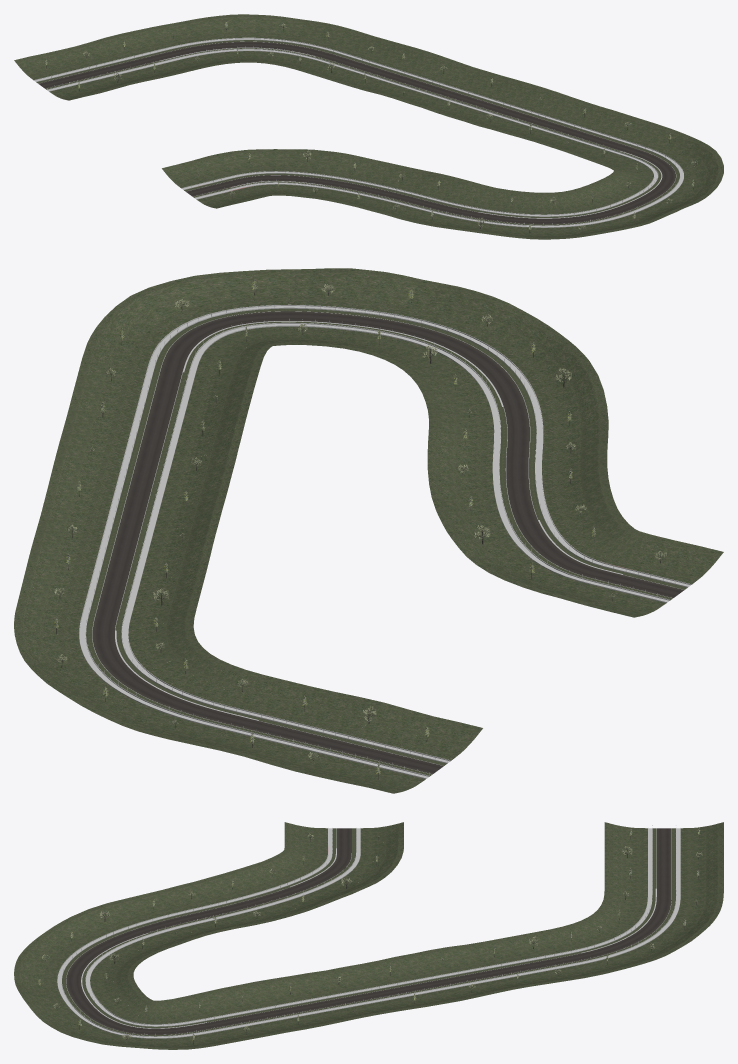
3 renders of one model, top to bottom at view 1: azimuth 30°, elevation 25°; view 2: azimuth 150°, elevation 25°; view 3: azimuth 270°, elevation 25°, orthographic. The views are drawn at different scales.
Visible parts, largest first — view 1: Grass, Track, Road, Trees; view 2: Grass, Road, Track, Trees; view 3: Grass, Road, Track, Trees.
Part boxes in pixels (bbox=[...]): Grass: bbox=[14, 14, 723, 239]; Track: bbox=[34, 37, 683, 227]; Road: bbox=[38, 41, 675, 224]; Trees: bbox=[45, 21, 697, 232]; Grass: bbox=[14, 268, 723, 793]; Road: bbox=[92, 311, 684, 774]; Track: bbox=[79, 304, 691, 778]; Trees: bbox=[54, 279, 666, 779]; Grass: bbox=[14, 822, 723, 1049]; Road: bbox=[66, 828, 671, 1034]; Track: bbox=[57, 825, 680, 1038]; Trees: bbox=[38, 828, 702, 1044].
Bounding box in the file's own units: 63486 × 1916 × 83243.
